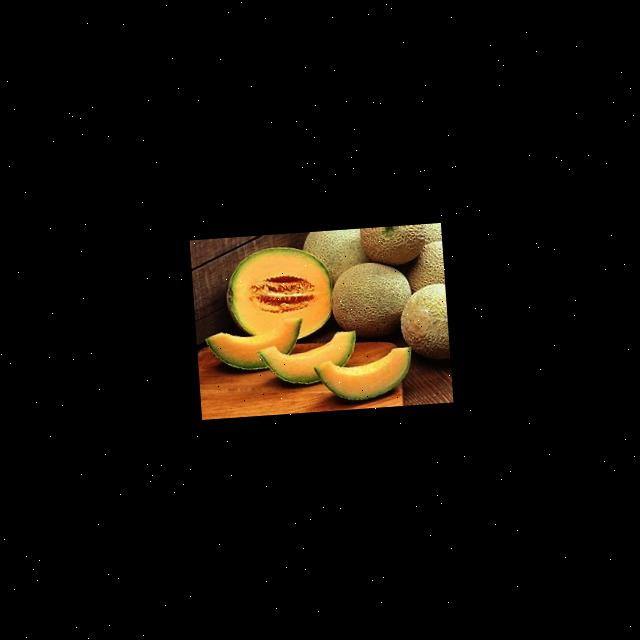Hami Melon: (223, 242, 333, 344), (327, 259, 413, 339), (201, 314, 306, 374), (254, 327, 358, 386), (312, 343, 415, 402)
